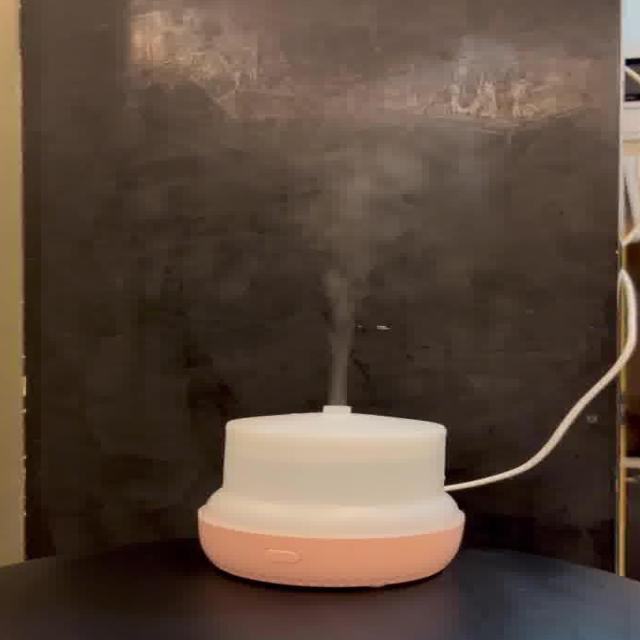fire: (311, 52, 476, 403)
